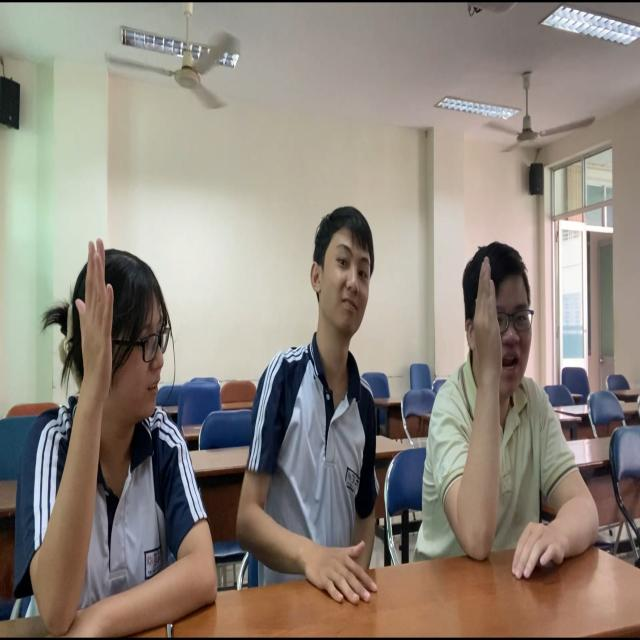raise_hand: (4, 229, 224, 640), (421, 241, 613, 584)
